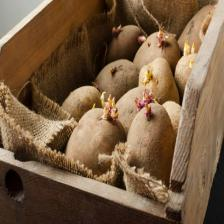Sprouted potato: (116, 97, 180, 207), (63, 96, 128, 184), (135, 55, 180, 117), (92, 57, 146, 102)
